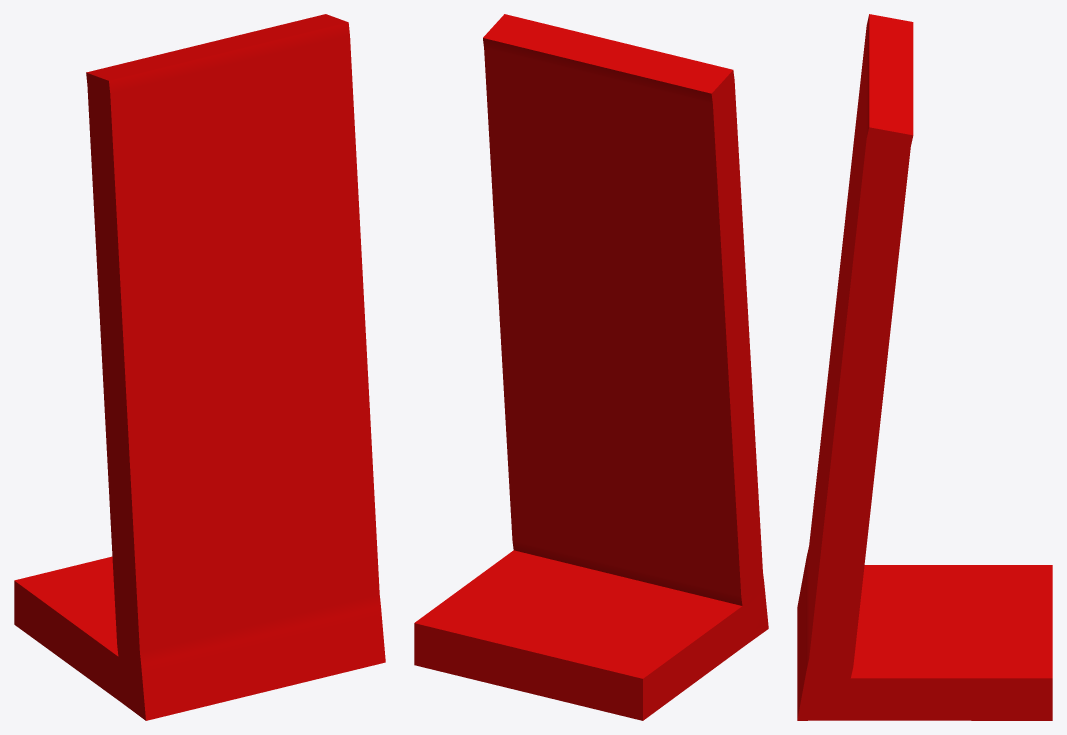
Rendered from display_box_box_02.fbx.
The picture shows the model from 3 angles, left to right: view 1: azimuth 30°, elevation 25°; view 2: azimuth 150°, elevation 25°; view 3: azimuth 270°, elevation 25°; orthographic projection. The views are drawn at different scales.
Visible parts, largest first — view 1: pPlane5; view 2: pPlane5; view 3: pPlane5.
Boxes of the visible parts, x1,y1,x2,y2 form: pPlane5: (14,14,385,720); pPlane5: (414,14,768,720); pPlane5: (797,14,1052,720).
Bounding box in the file's own units: 1.66 × 4.05 × 1.58.
